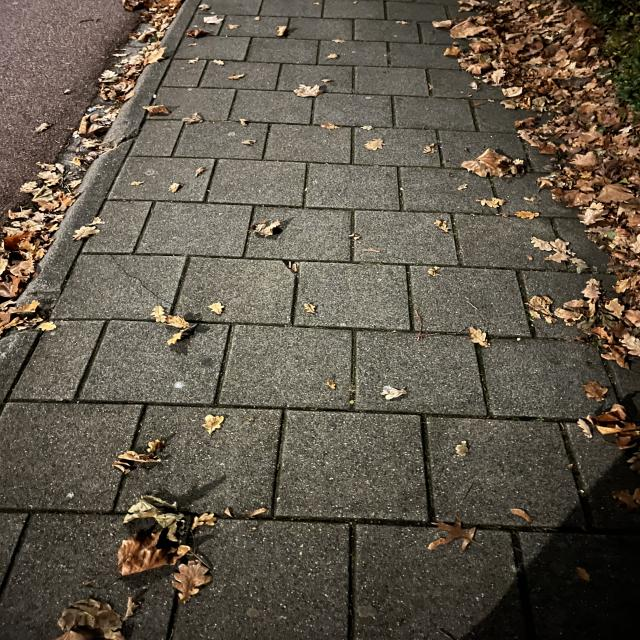leaves: (443, 0, 639, 360), (108, 430, 168, 476), (63, 212, 104, 245), (274, 22, 297, 38)
